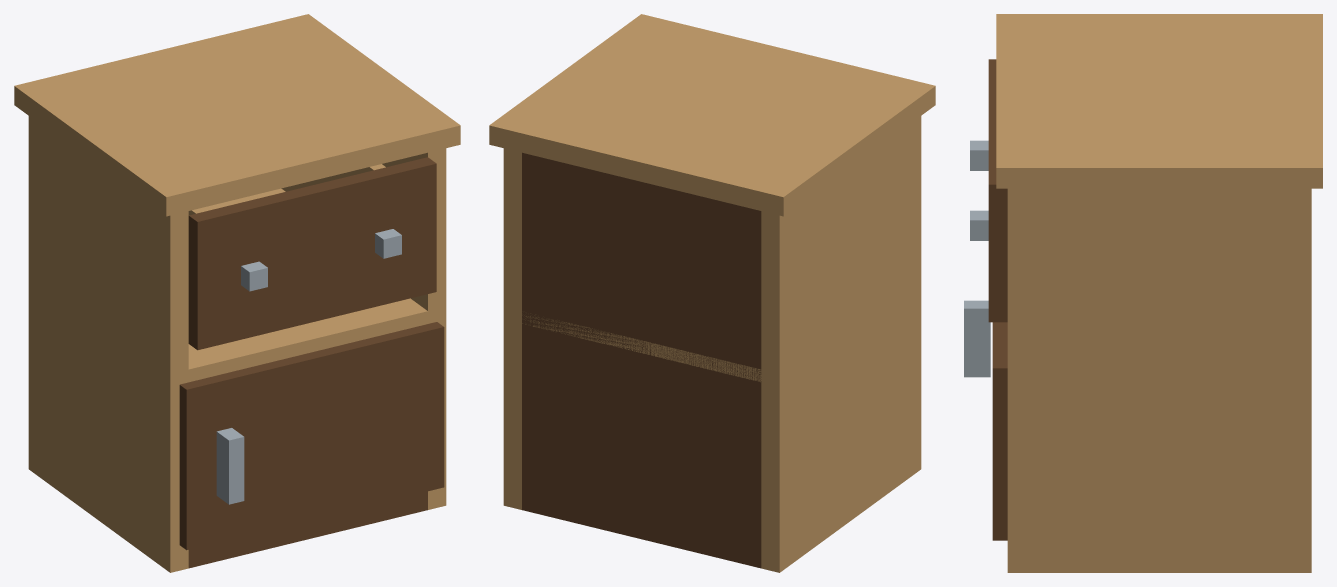
File: GI_Nightstand_01.glb
3 renders of one model, left to right at view 1: azimuth 30°, elevation 25°; view 2: azimuth 150°, elevation 25°; view 3: azimuth 270°, elevation 25°, orthographic. The views are drawn at different scales.
Visible parts, largest first — view 1: GI_Nightstand_01, Door, Drawer1; view 2: GI_Nightstand_01; view 3: GI_Nightstand_01, Door, Drawer1.
Boxes of the visible parts, left/top/right/bottom form: GI_Nightstand_01: left=14, top=14, right=460, bottom=572; Door: left=179, top=322, right=444, bottom=550; Drawer1: left=188, top=157, right=436, bottom=350; GI_Nightstand_01: left=489, top=14, right=935, bottom=572; GI_Nightstand_01: left=996, top=14, right=1322, bottom=572; Door: left=964, top=300, right=1007, bottom=540; Drawer1: left=970, top=59, right=1007, bottom=322.
Bounding box in the file's own units: 0.48 × 0.595 × 0.4725.
Materials: 1 (1 with a texture image).
